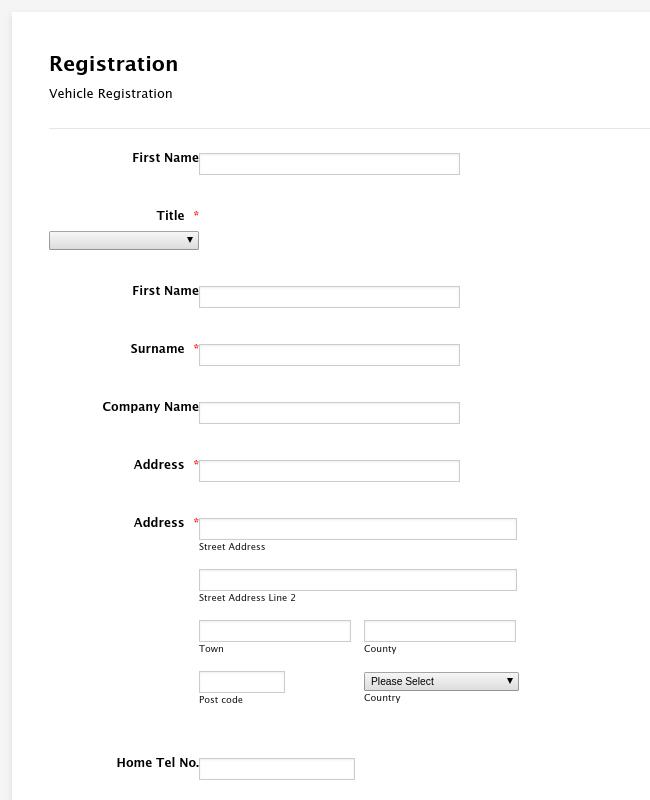dropdown: (354, 668, 531, 704), (41, 224, 207, 254)
textbox: (128, 509, 530, 555), (129, 448, 474, 500), (99, 390, 474, 432)
